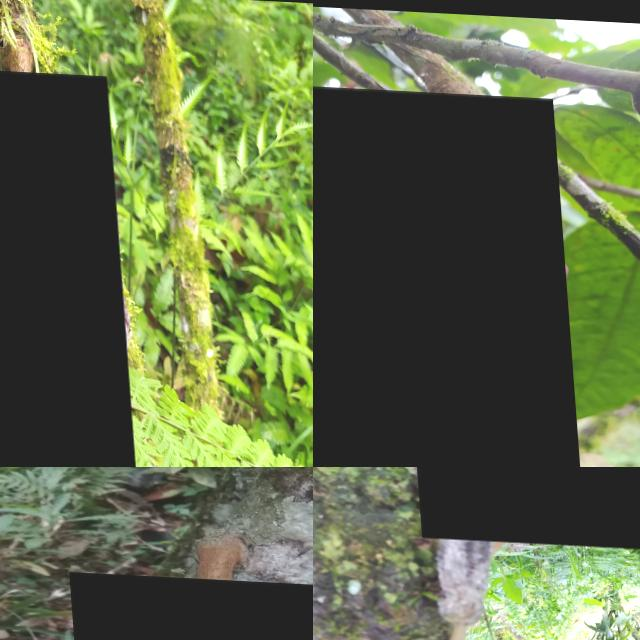Fitoftora: (313, 80, 582, 467), (0, 64, 131, 467), (394, 467, 640, 545)
Monilia: (67, 570, 313, 640)
